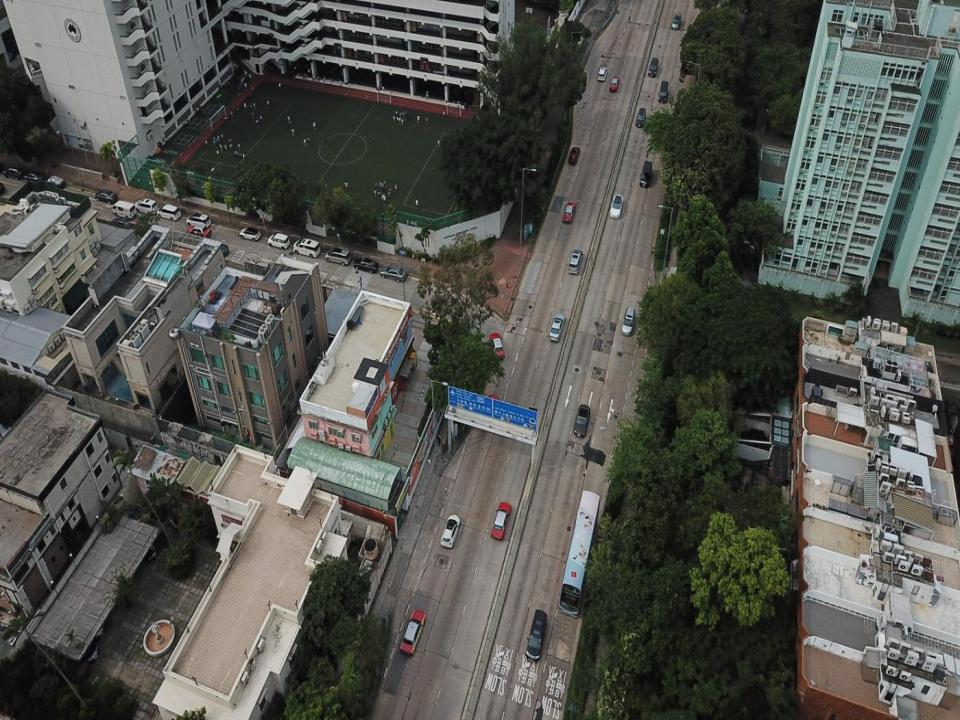bus: (558, 490, 600, 616)
car: (400, 610, 426, 654), (490, 502, 511, 540), (440, 514, 460, 548), (573, 404, 590, 438), (380, 265, 408, 281), (549, 314, 565, 342), (484, 394, 498, 426), (490, 333, 504, 361), (353, 258, 378, 273), (95, 190, 118, 206), (186, 225, 212, 239), (240, 227, 262, 242), (23, 170, 44, 185), (610, 195, 623, 219), (562, 201, 575, 223), (671, 12, 681, 30), (609, 76, 619, 92), (597, 67, 608, 81)
van: (526, 608, 547, 662), (293, 238, 321, 258), (112, 200, 136, 220), (621, 307, 636, 336), (157, 204, 181, 222), (267, 232, 290, 250), (326, 249, 351, 265), (135, 198, 158, 215), (568, 250, 584, 274), (46, 174, 66, 192), (186, 213, 210, 227), (640, 160, 652, 187), (2, 166, 23, 180), (658, 80, 668, 103), (568, 146, 580, 165), (636, 107, 645, 128), (648, 58, 658, 76)
